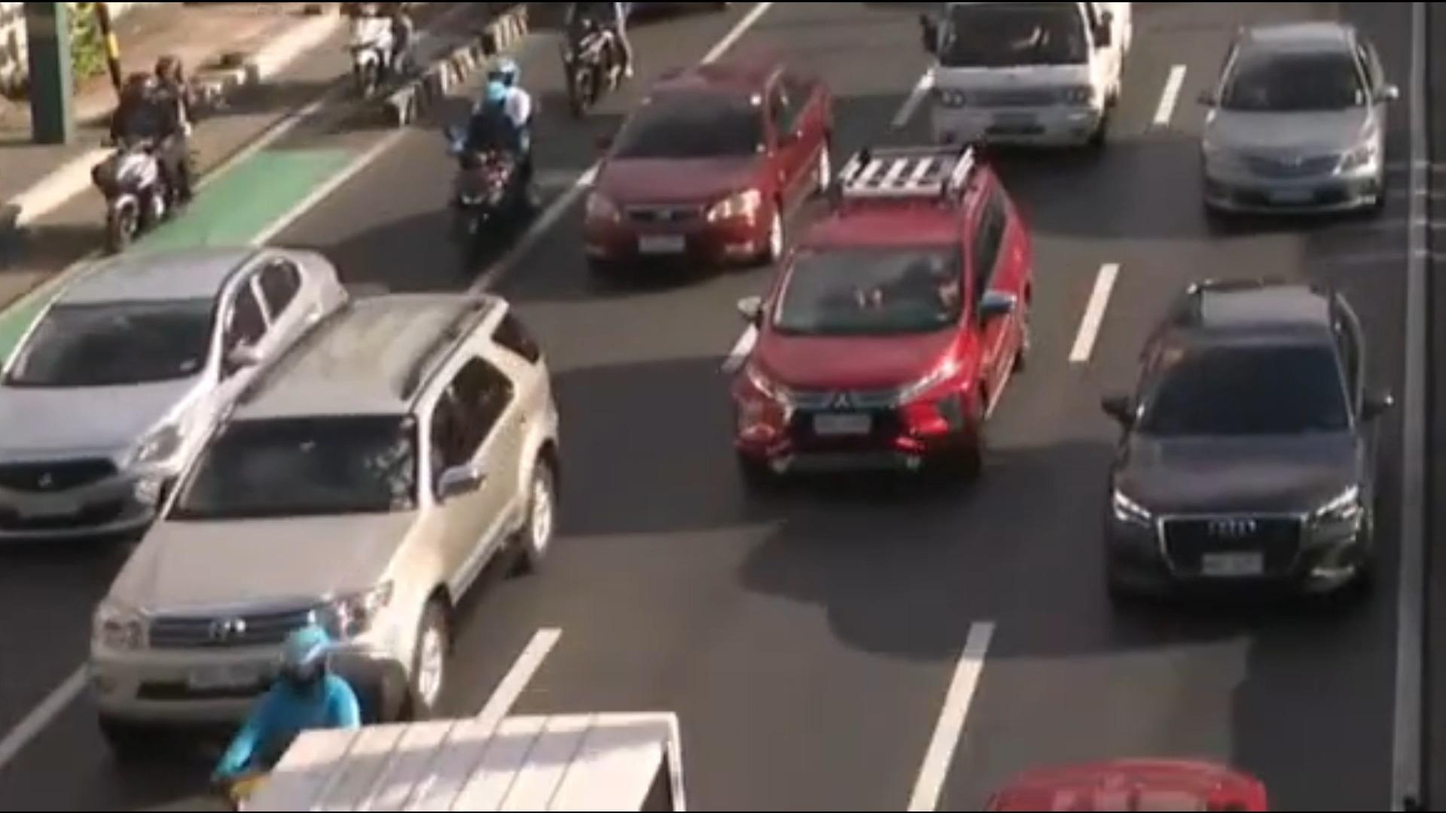Motorcycle: (181, 627, 358, 809), (79, 36, 215, 248), (441, 62, 523, 263), (548, 0, 635, 111)
Multicab: (906, 0, 1143, 149)
SUV: (87, 295, 552, 732), (717, 147, 1032, 499), (1086, 279, 1388, 606)
Sedan: (0, 228, 348, 557), (580, 68, 844, 267), (1192, 21, 1395, 201)
